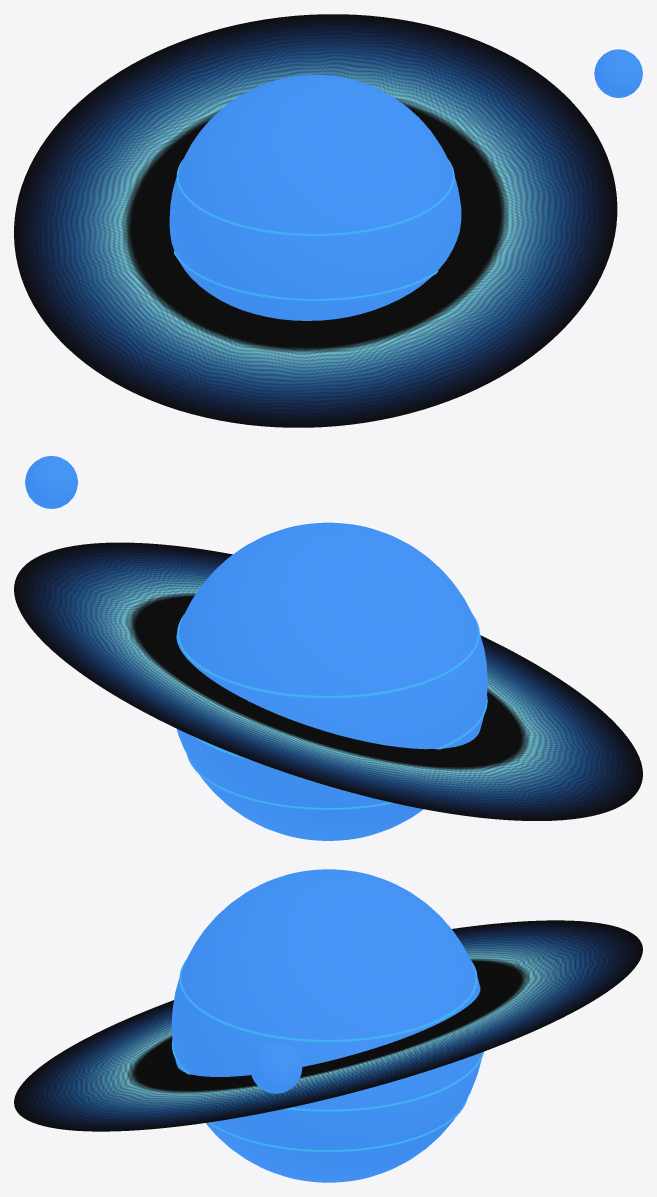
File: planet.glb
3 renders of one model, top to bottom at view 1: azimuth 30°, elevation 25°; view 2: azimuth 150°, elevation 25°; view 3: azimuth 270°, elevation 25°, orthographic. The views are drawn at different scales.
Parts seen in each view (by area): view 1: body; view 2: body; view 3: body.
Part boxes in pixels (x1,y1,x2,y2): body: (14, 14, 642, 427); body: (14, 456, 642, 840); body: (14, 869, 642, 1182).
Bounding box in the file's own units: 1 × 0.4555 × 0.9134.
4 materials, 1 textured.
